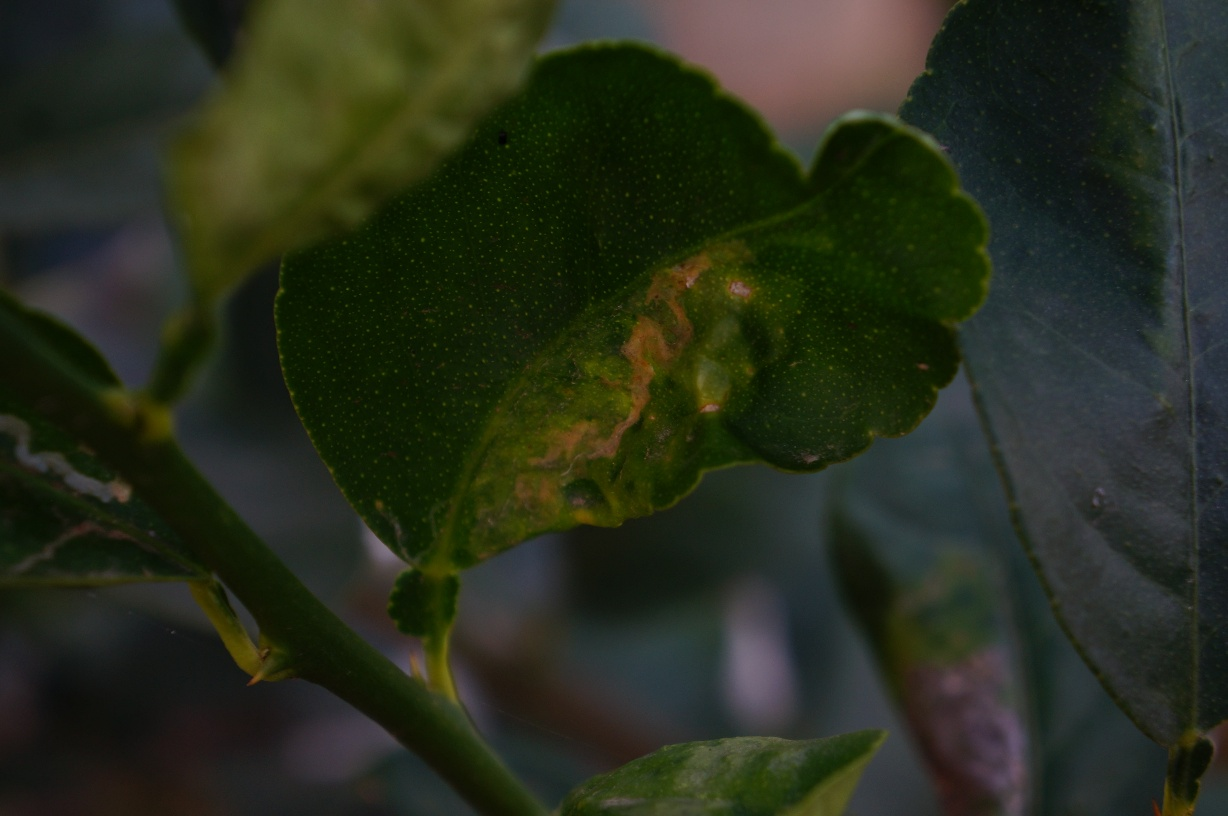damage: (484, 230, 775, 547)
